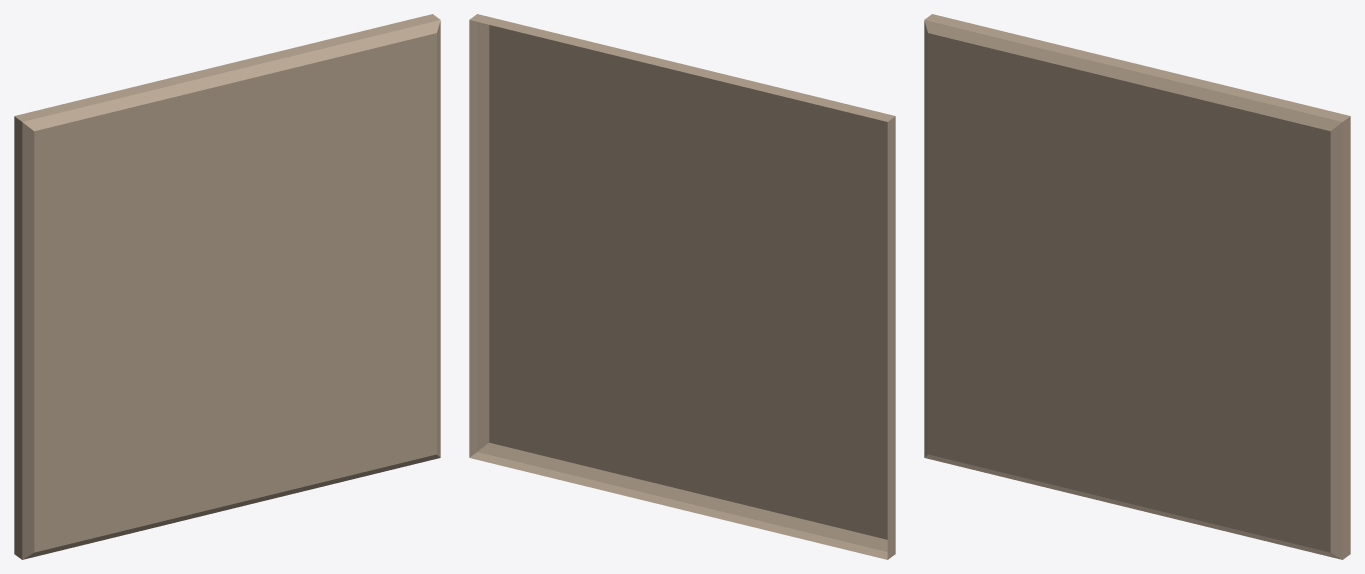
The model's file is concreteslab.fbx.
3 views of the same model, side by side, from view 1: azimuth 30°, elevation 25°; view 2: azimuth 150°, elevation 25°; view 3: azimuth 330°, elevation 25° (orthographic).
Parts seen in each view (by area): view 1: Cube; view 2: Cube; view 3: Cube.
Boxes of the visible parts, x1,y1,x2,y2 form: Cube: (14,14,440,559); Cube: (469,14,895,559); Cube: (924,14,1350,559).
Size of the model in its own units: 250 by 250 by 12.5.
